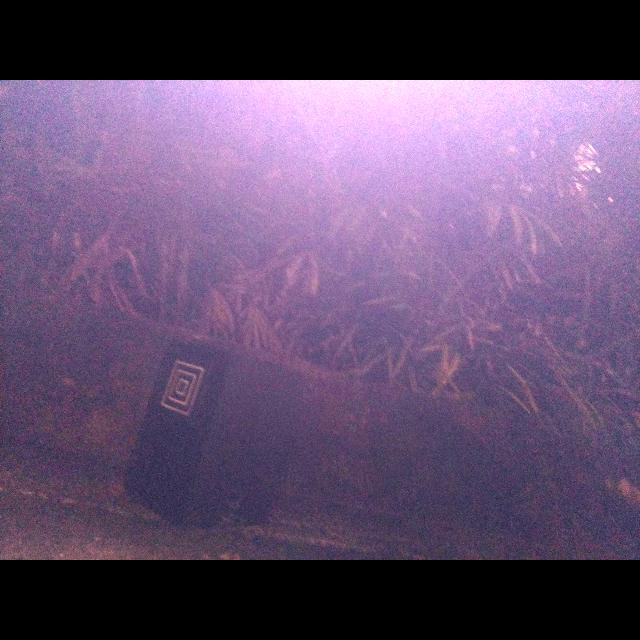BULLSEYE: (160, 360, 205, 418)
